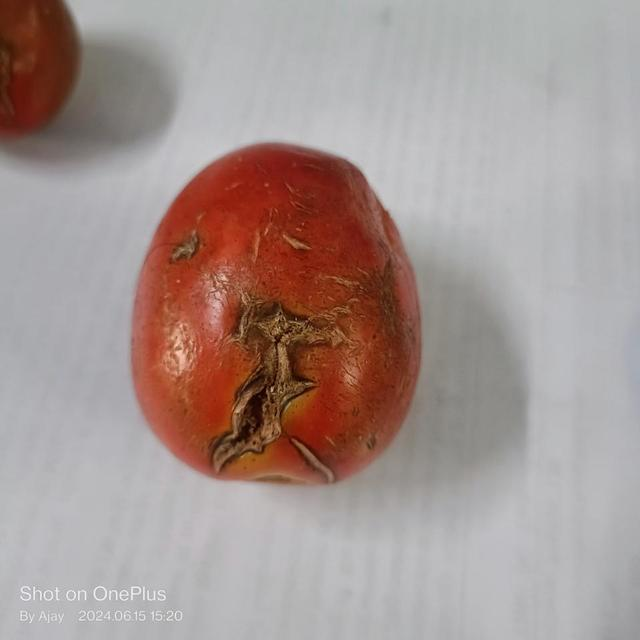Cracking Fruit: (50, 138, 199, 459)
